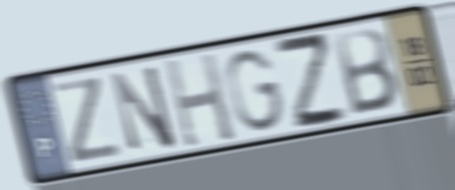B: (331, 24, 402, 119)
G: (223, 47, 288, 136)
H: (161, 49, 239, 151)
N: (107, 61, 180, 155)
Z: (269, 32, 353, 134), (50, 73, 126, 168)
